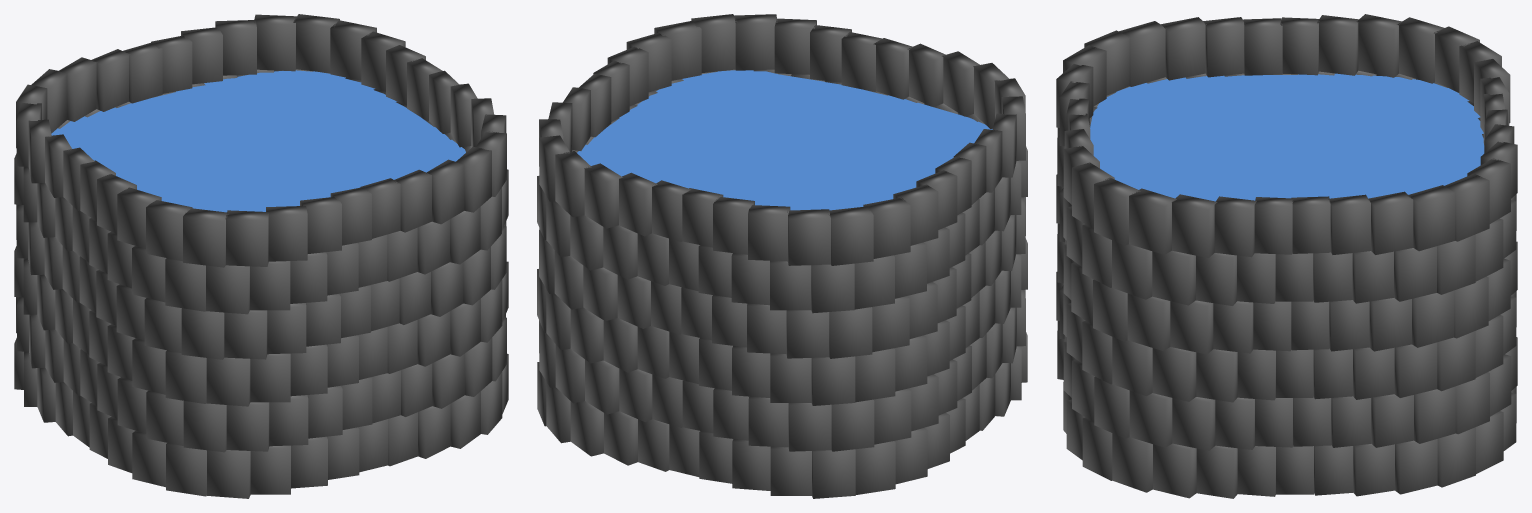
Rendered from well2.glb.
3 renders of one model, left to right at view 1: azimuth 30°, elevation 25°; view 2: azimuth 150°, elevation 25°; view 3: azimuth 270°, elevation 25°, orthographic. The views are drawn at different scales.
Parts seen in each view (by area): view 1: brick, water; view 2: brick, water; view 3: brick, water.
Boxes of the visible parts, x1,y1,x2,y2 form: brick: [14, 14, 508, 498]; water: [51, 70, 465, 212]; brick: [537, 14, 1027, 498]; water: [577, 70, 992, 210]; brick: [1056, 14, 1517, 498]; water: [1090, 73, 1484, 201].
Bounding box in the file's own units: 0.8725 × 0.6001 × 0.8681.
